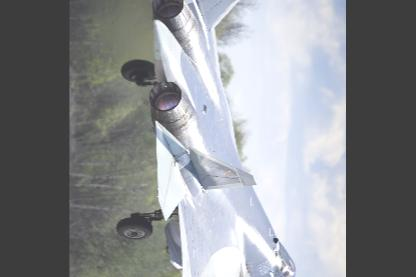SR71: (115, 0, 299, 276)
